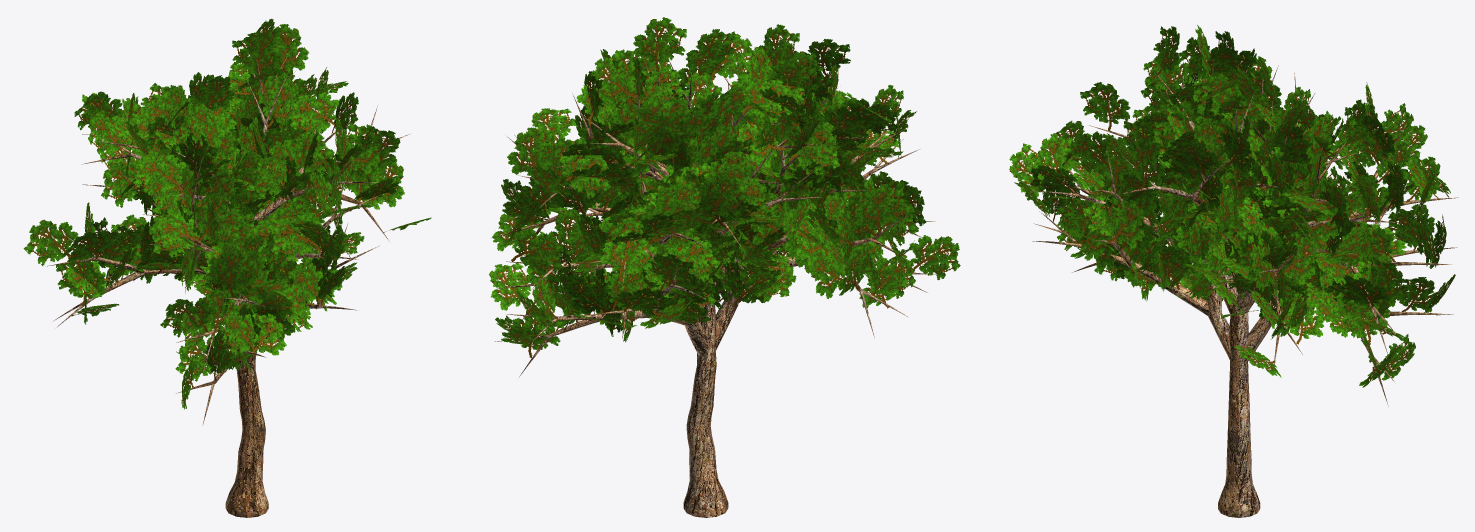
The model's file is arvoreGerador.glb.
3 renders of one model, left to right at view 1: azimuth 30°, elevation 25°; view 2: azimuth 150°, elevation 25°; view 3: azimuth 270°, elevation 25°, orthographic. The views are drawn at different scales.
Visible parts, largest first — view 1: Tree; view 2: Tree; view 3: Tree.
Part boxes in pixels (x1,y1,x2,y2): Tree: (23, 18, 431, 517); Tree: (489, 17, 960, 517); Tree: (1009, 25, 1458, 517).
Size of the model in its own units: 8.68 by 9.39 by 8.39.
2 materials, 2 textured.
